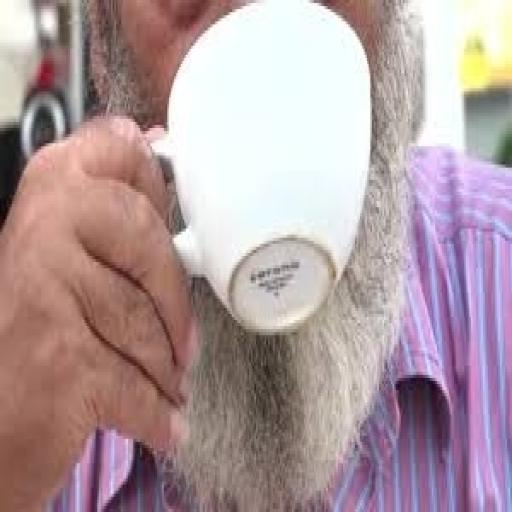drinking: (147, 0, 372, 335)
